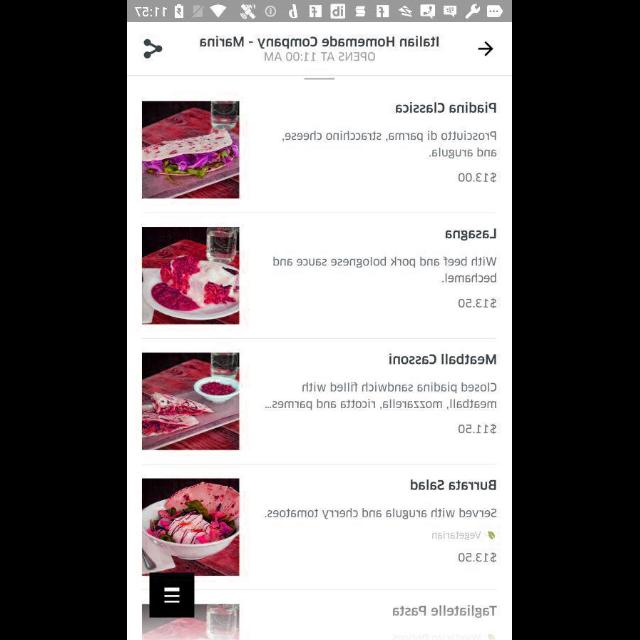icon: (150, 572, 196, 618), (144, 40, 162, 59), (478, 42, 494, 56)
image: (144, 478, 240, 576), (144, 352, 240, 450), (144, 102, 240, 200), (143, 228, 240, 324), (142, 604, 240, 640)
text: (266, 382, 497, 410), (283, 131, 497, 159), (273, 257, 497, 283), (200, 36, 440, 50), (266, 508, 497, 520), (265, 52, 375, 64), (389, 353, 497, 365), (394, 606, 498, 618), (397, 102, 498, 114), (412, 480, 496, 490), (446, 229, 496, 241), (448, 532, 497, 540), (459, 553, 497, 563), (459, 424, 497, 434), (459, 299, 497, 309), (459, 172, 497, 182)
toolbar: (128, 24, 512, 76)
uppertaskbar: (128, 1, 512, 23)
